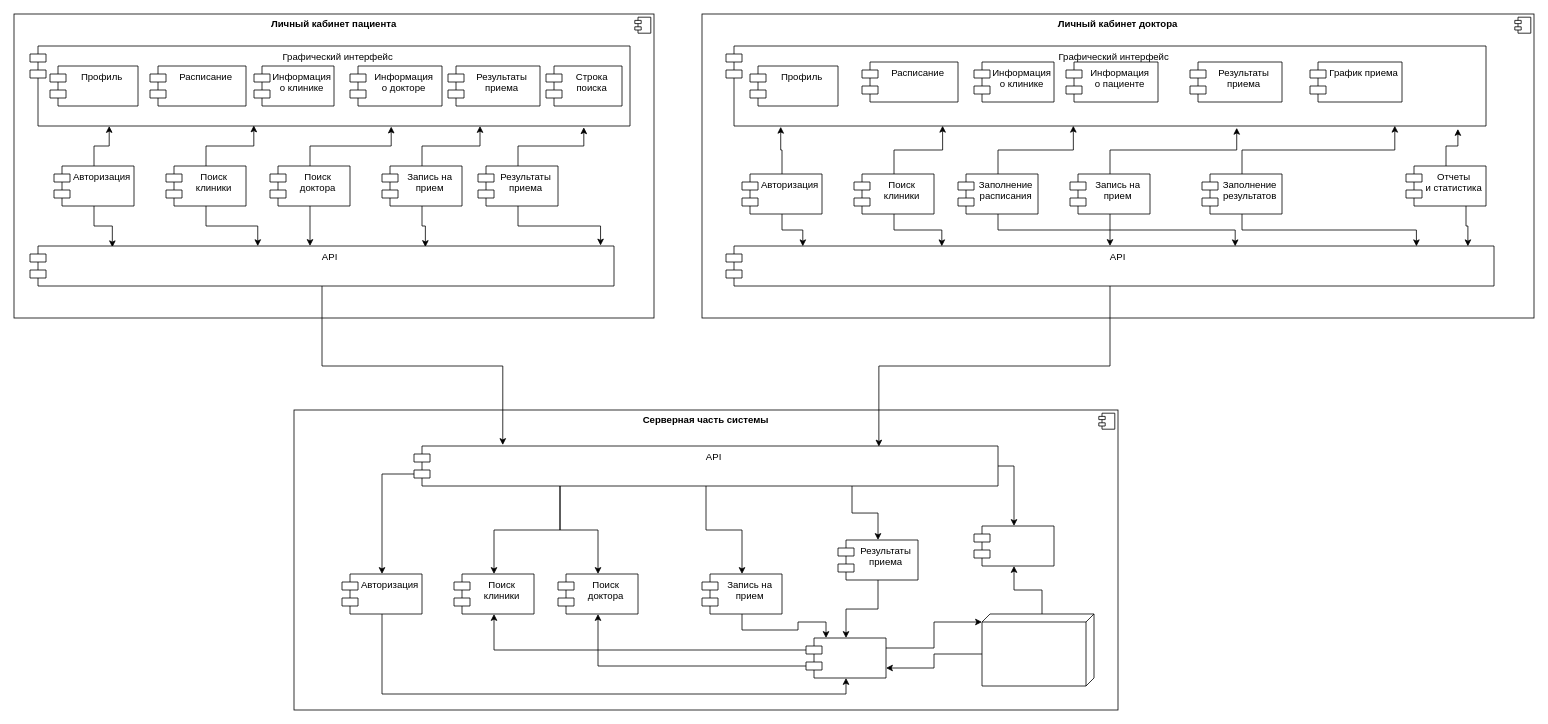
Image size: 1548x724. Some labels were removed from this diagram. Each missing label, with the centre of its shape:
"База данных" belongs at point (1037, 649).
"Коннектор к БД" belongs at point (845, 657).
"Отчеты" belongs at point (1013, 545).
